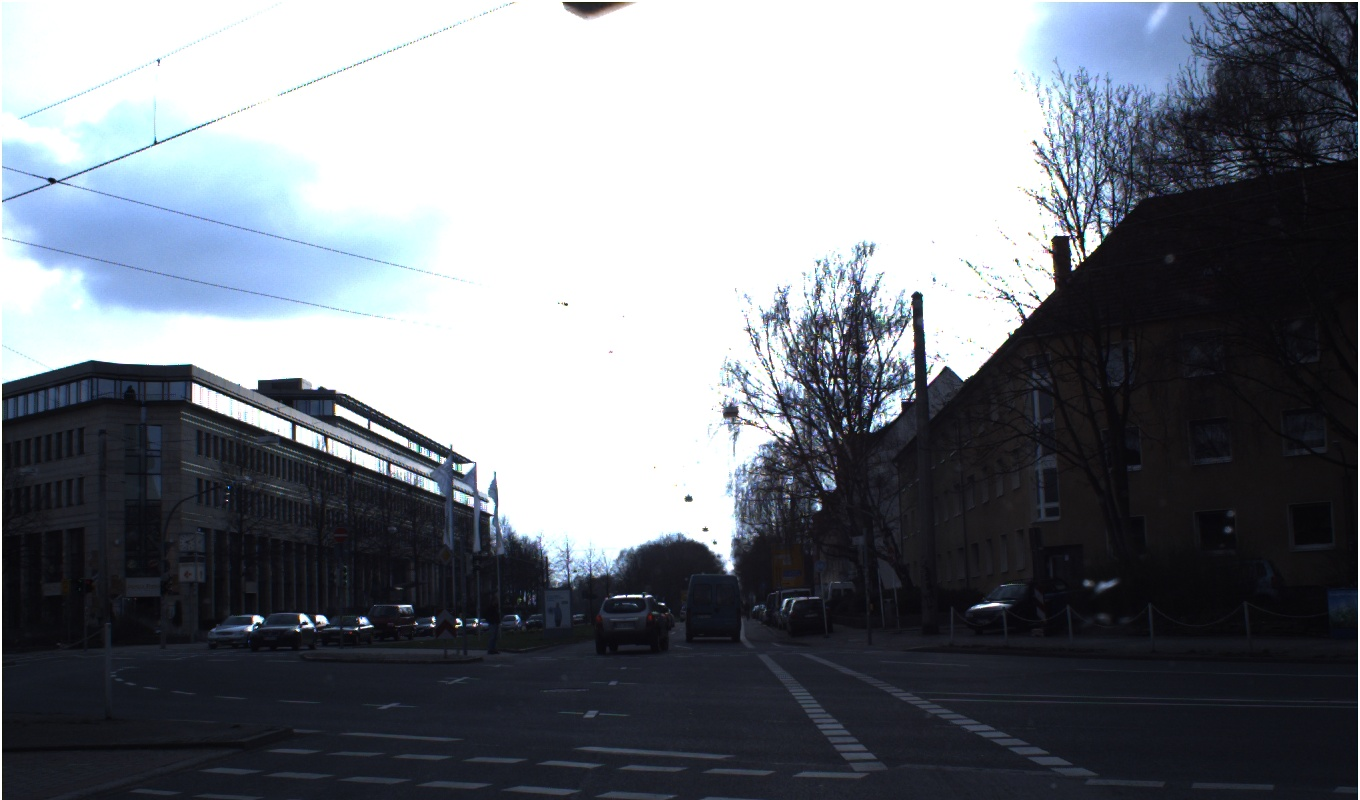No entry: (257, 403, 281, 428), (648, 410, 670, 433)
Stop: (840, 287, 915, 364)
Turn left ahead: (849, 364, 901, 416)
